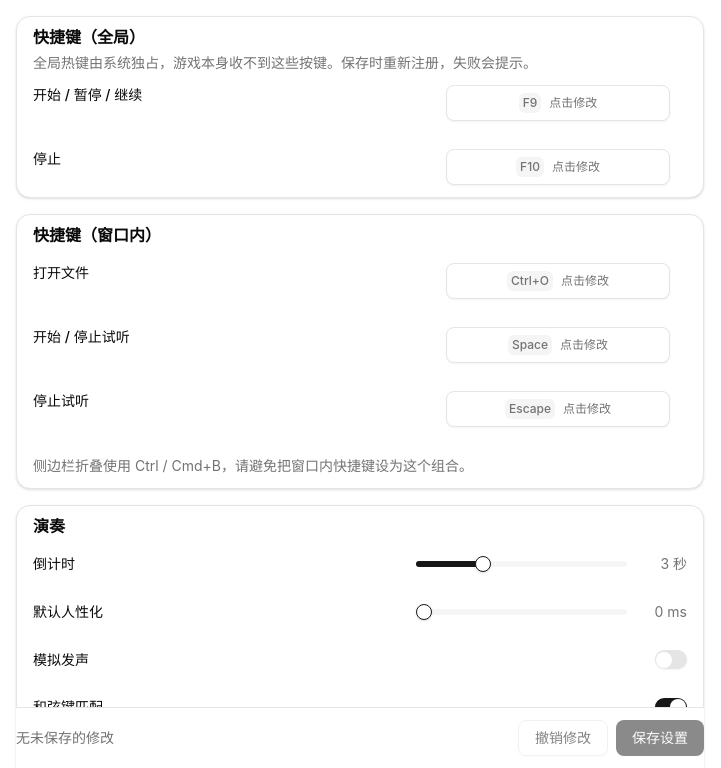
SettingsPage › 组内冲突（两个全局热键相同）标红并禁用保存
The image size is (721, 768).
Click the button with aria-label "开始 / 暂停 / 继续快捷键" at {"x": 558, "y": 103}, box [446, 85, 670, 121]
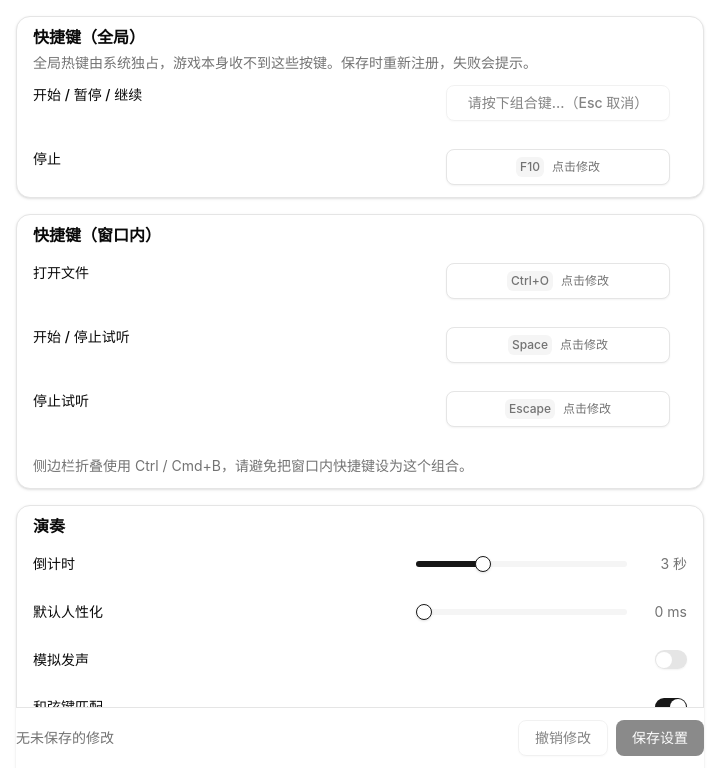
Press F10 in the button with aria-label "开始 / 暂停 / 继续快捷键", box [446, 85, 670, 121]
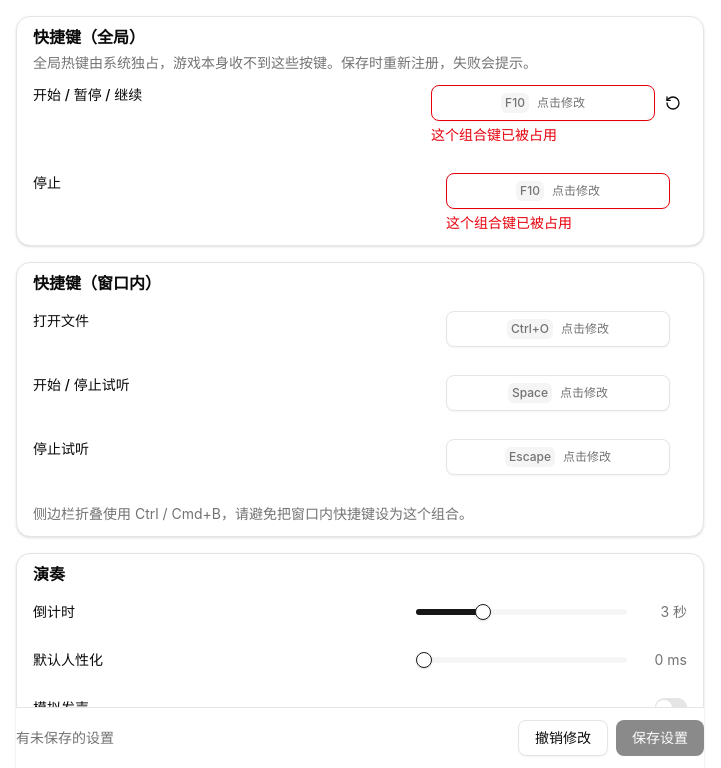
Expected: the button "保存设置" is disabled, [616, 720, 704, 756]
Expected: the text "这个组合键已被占用" is shown 2 times, [431, 126, 557, 143]; [446, 214, 572, 231]
